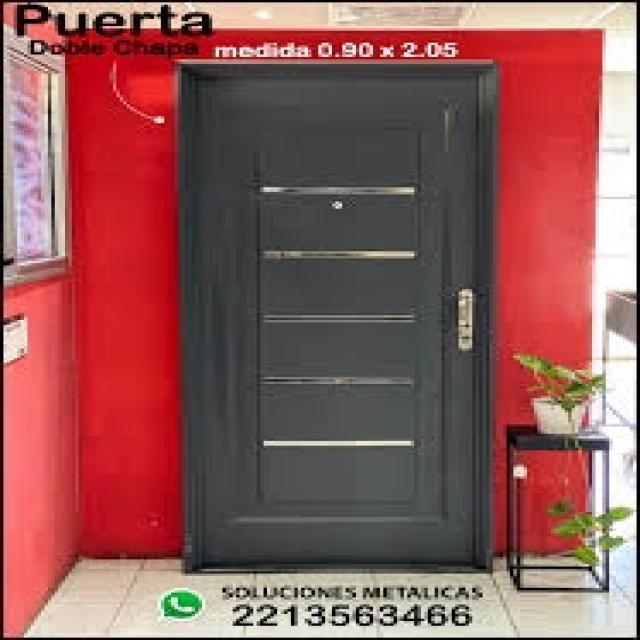door: (176, 60, 498, 572)
